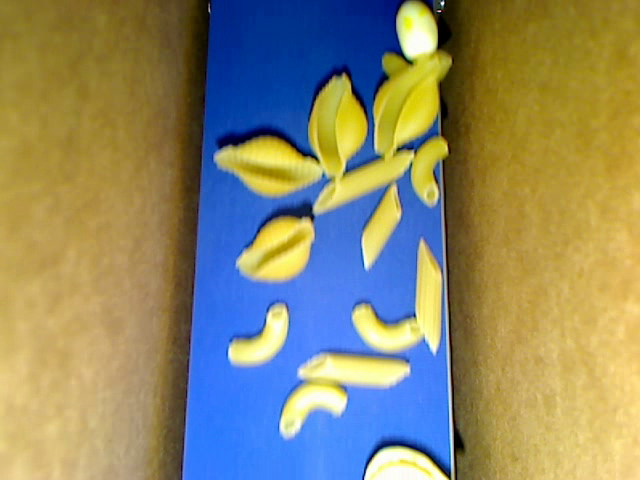elbow: (277, 380, 347, 441), (228, 301, 289, 366), (350, 302, 424, 354), (410, 134, 449, 209), (380, 51, 408, 81)
penne: (311, 149, 415, 215), (295, 351, 411, 391), (359, 182, 402, 271), (414, 235, 443, 356)
shell: (372, 48, 453, 159), (214, 136, 324, 197), (307, 74, 368, 178), (234, 215, 314, 284)
tortellini: (362, 444, 450, 479)
